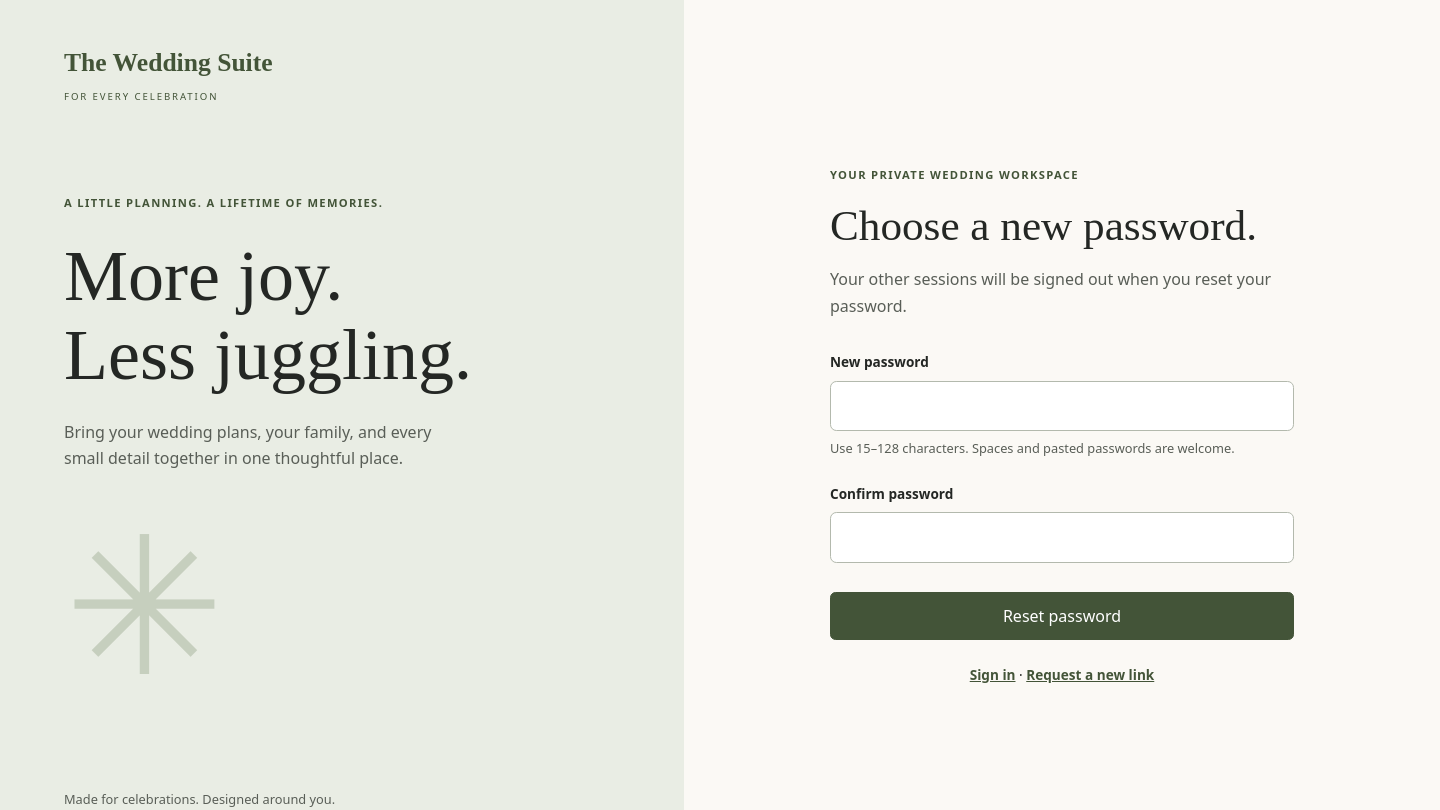
Test: team and recovery screens › scrubs the link fragment, validates confirmation, resets and clears private session data
Type "a long synthetic passphrase" into the password field labelled "New password" at (1062, 406), box [830,381,1294,431]
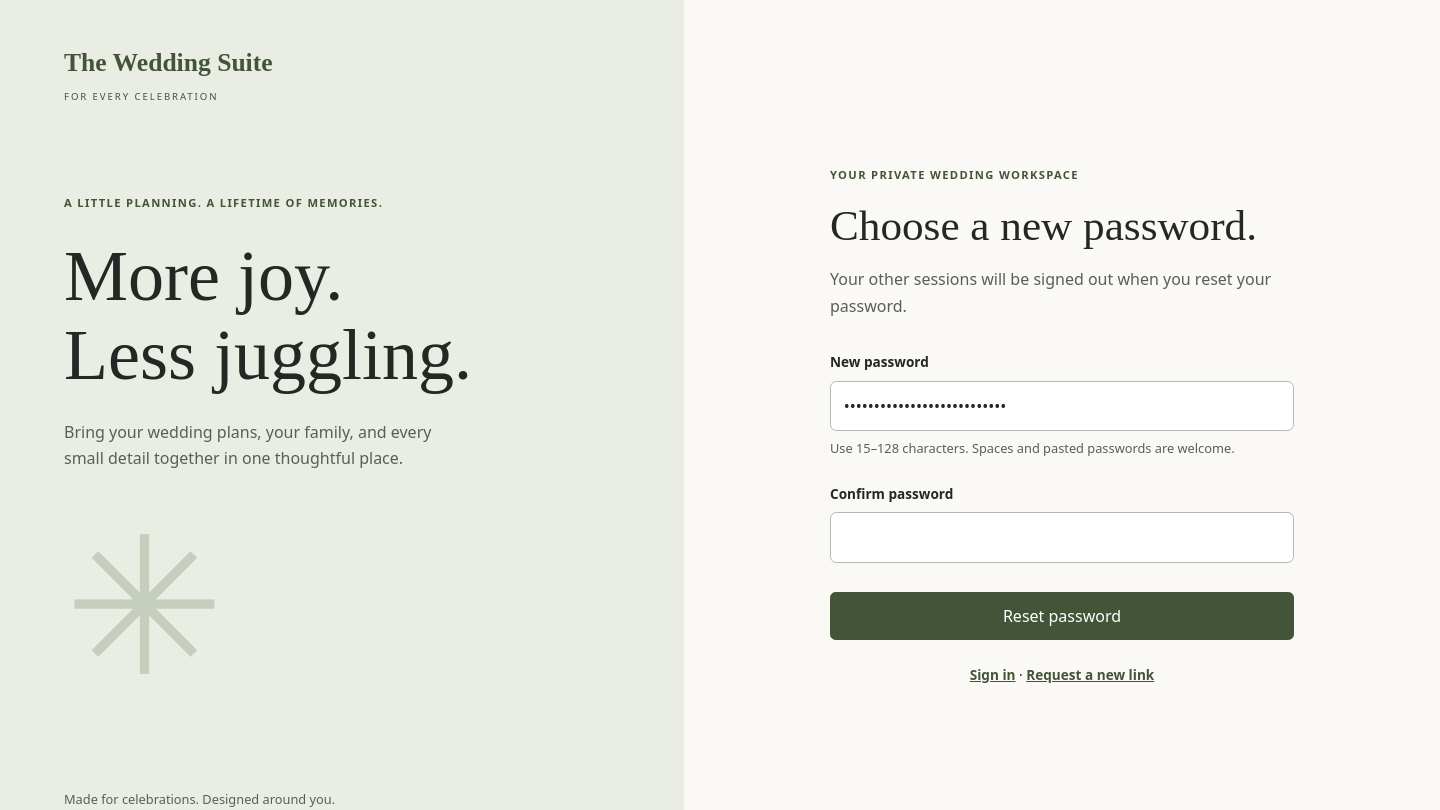
Type "a different passphrase" into the password field labelled "Confirm password" at (1062, 538), box [830,512,1294,563]
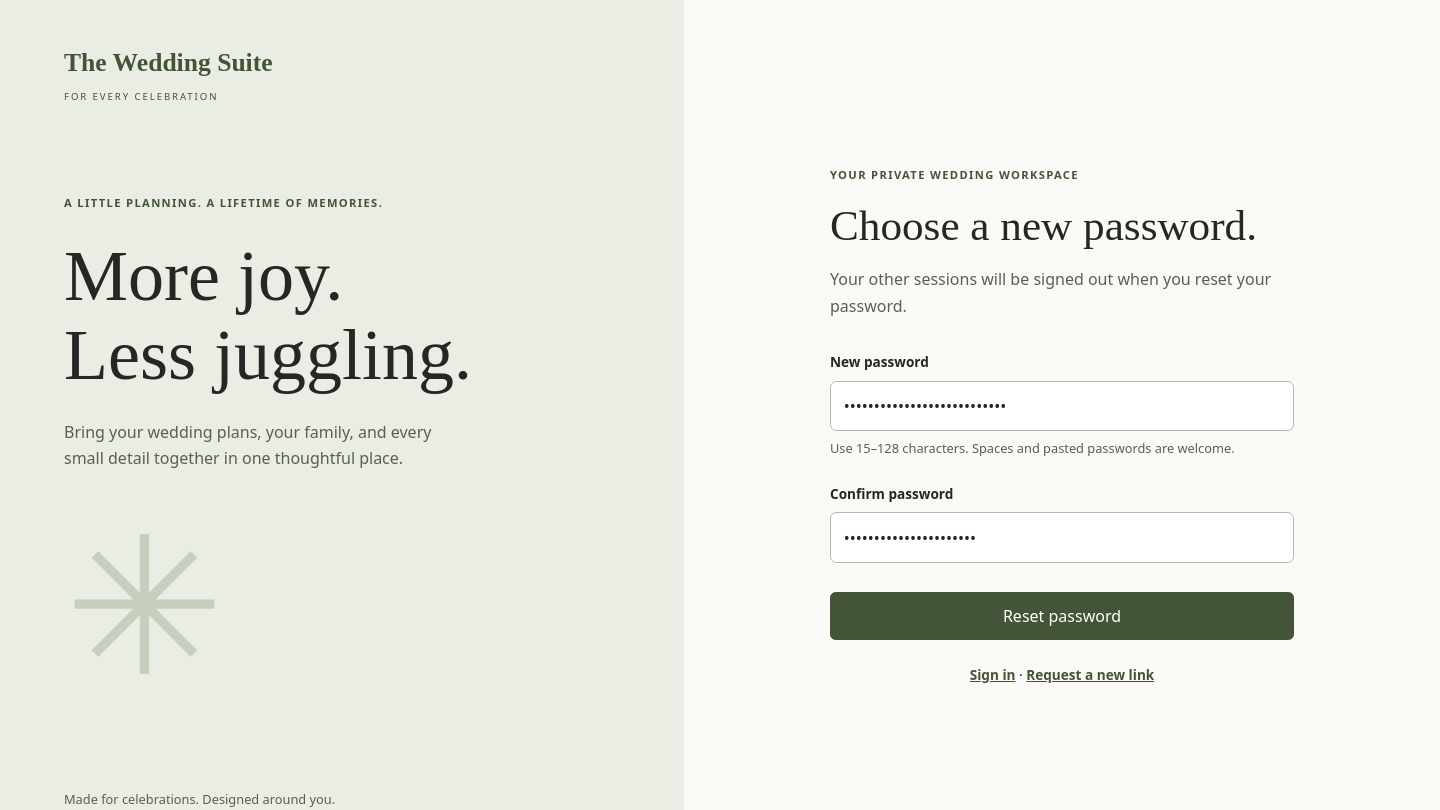
Click the button "Reset password" at (1062, 616), box [830,592,1294,640]
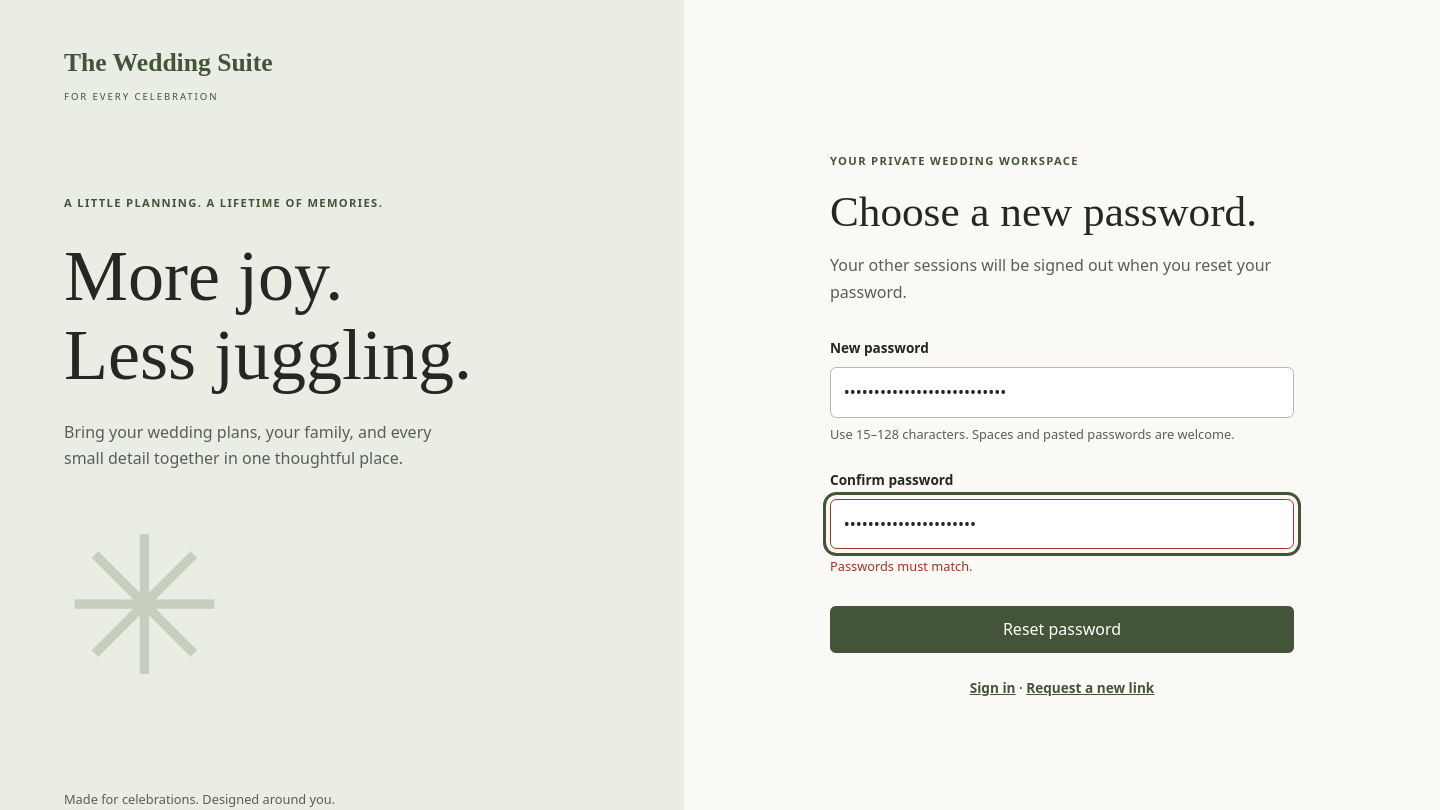
Expected: the message shows "Passwords must match", [830,557,972,575]
Type "a long synthetic passphrase" into the password field labelled "Confirm password" at (1062, 524), box [830,499,1294,550]
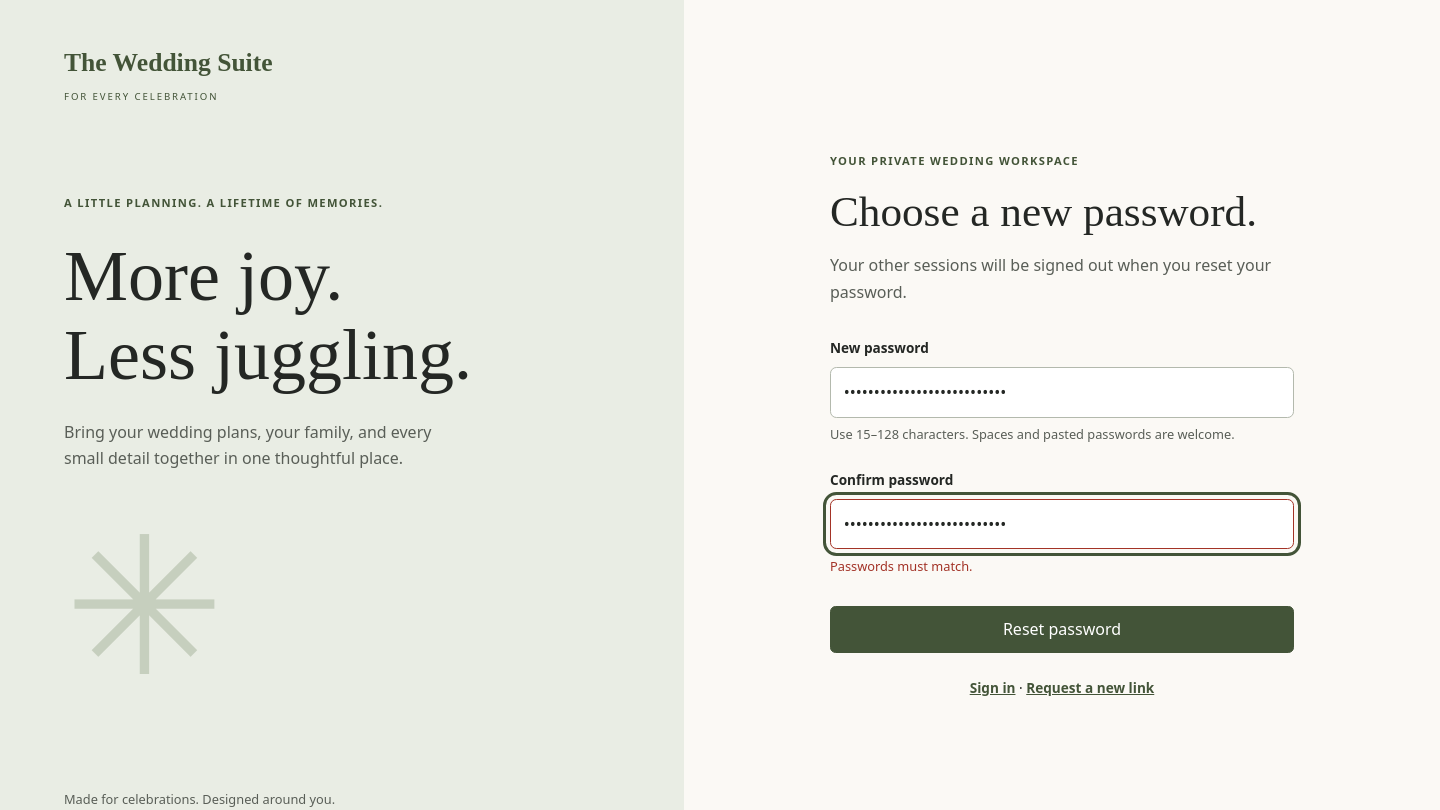
Click the button "Reset password" at (1062, 630), box [830,606,1294,653]
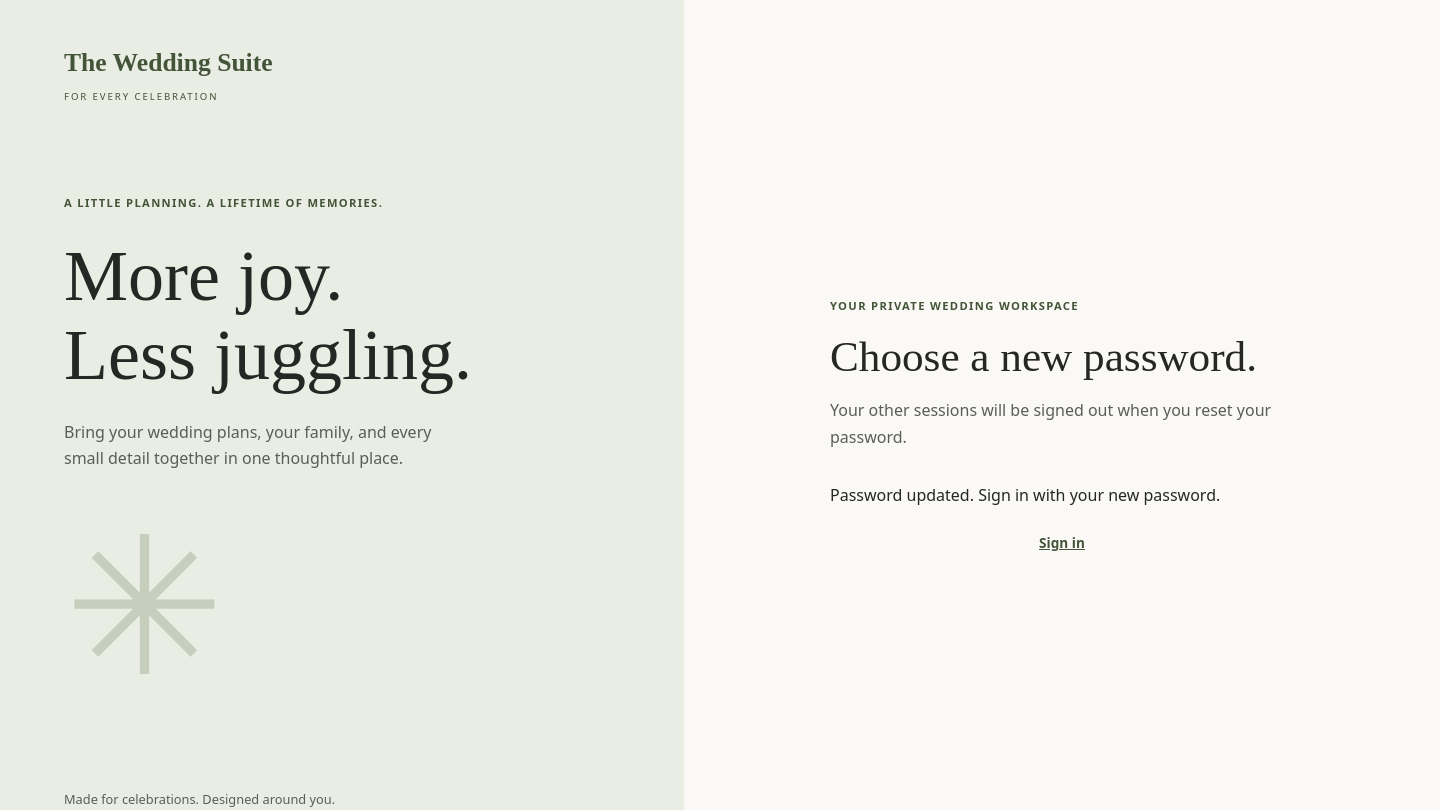
Expected: the message shows "Password updated", [830,484,1220,506]
